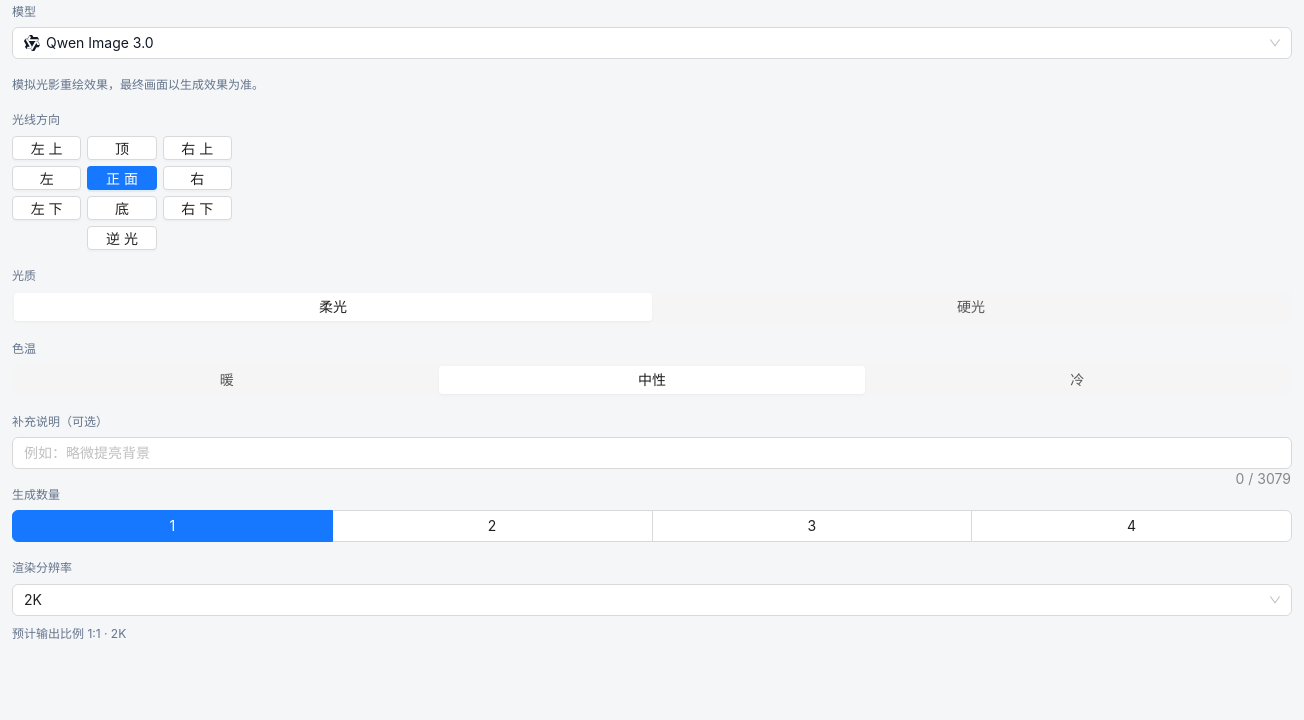
Scenario: 智能编辑参数面板 › 重新打光多个模型时显示下拉，并按模型限制分辨率
expect the icon is shown: met, box [24,35,40,51]
Press the mouse on the dropdown named "模型" at (89, 43), box [24,34,154,51]
Press the mouse on the dropdown labelled "2K" at (33, 599), box [24,590,42,608]
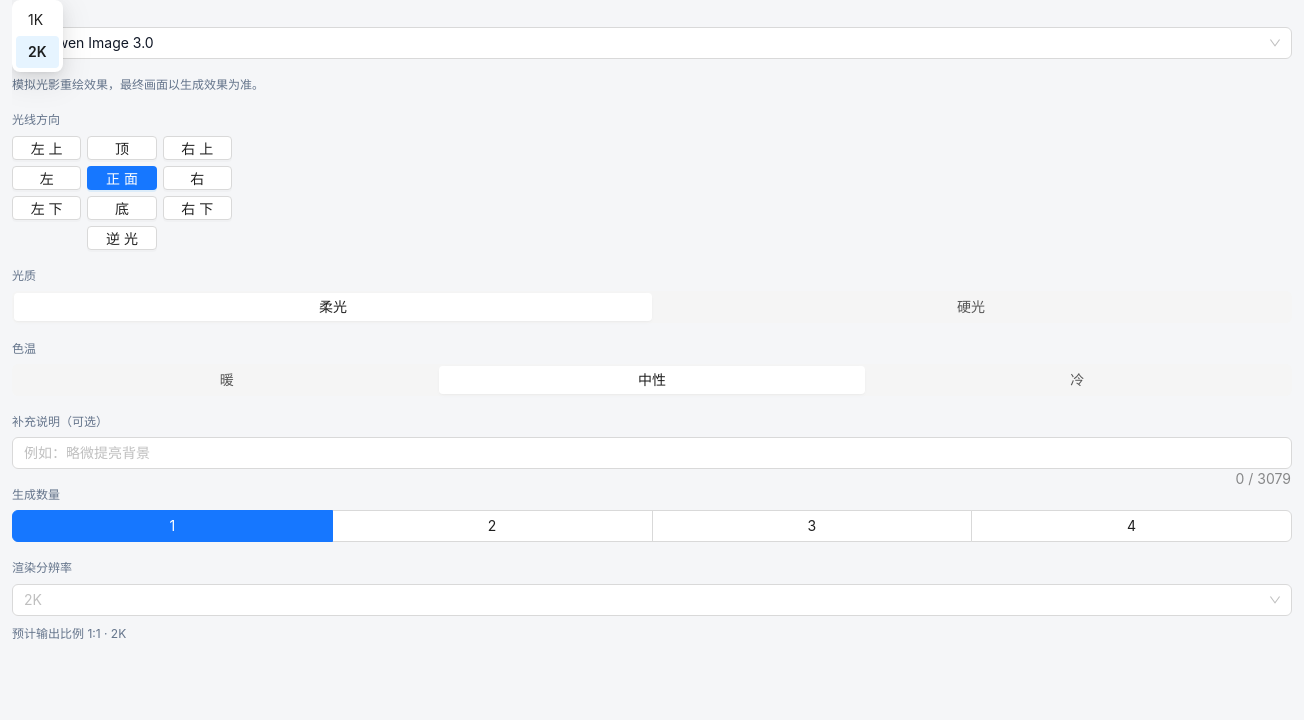
expect the text "1K" is shown: met, box [28,11,43,28]
expect the text "4K" is gone: met
